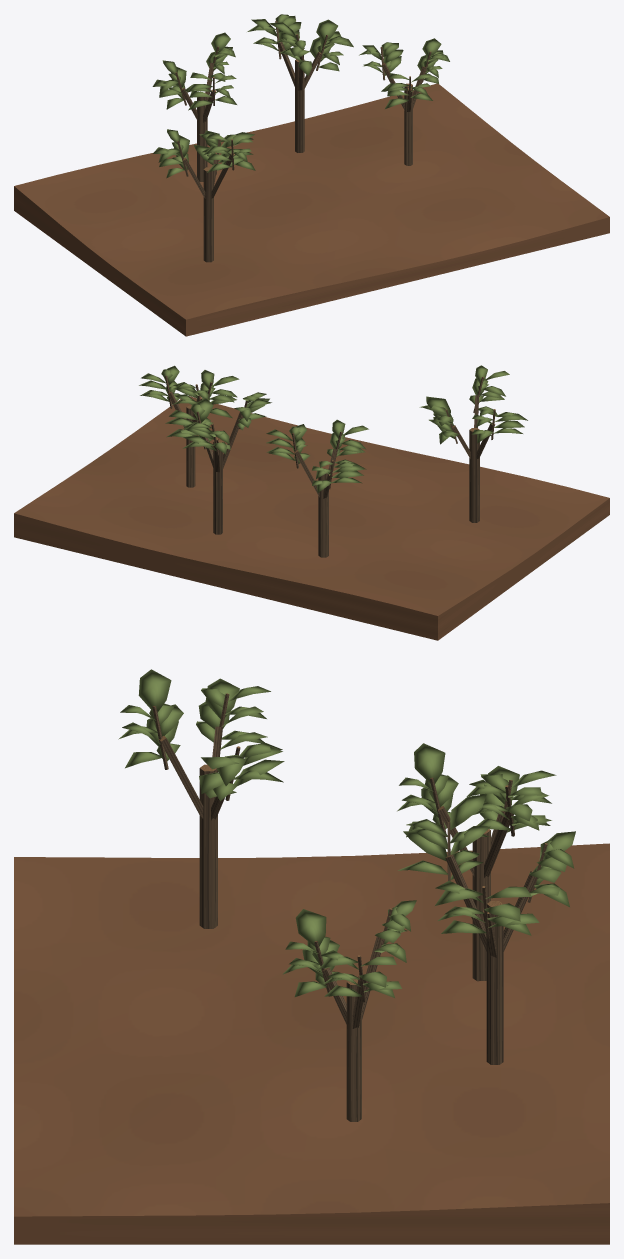
File: kingstown.glb
The picture shows the model from 3 angles, top to bottom: view 1: azimuth 30°, elevation 25°; view 2: azimuth 150°, elevation 25°; view 3: azimuth 270°, elevation 25°; orthographic projection. The views are drawn at different scales.
Visible parts, largest first — view 1: kingstown; view 2: kingstown; view 3: kingstown.
Boxes of the visible parts, box(x1,y1,x2,y2) form: kingstown: box(14, 14, 609, 336); kingstown: box(14, 365, 609, 640); kingstown: box(14, 669, 609, 1244).
Size of the model in its own units: 7.21 by 2.6 by 5.07.
1 material, 1 textured.
